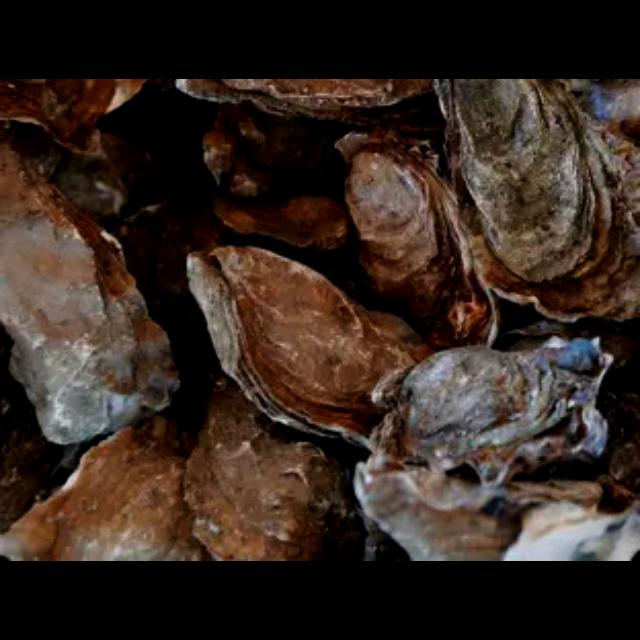Oyster-Closed: (0, 145, 181, 442), (188, 247, 434, 446), (185, 370, 407, 561), (453, 118, 640, 322), (438, 79, 614, 282), (372, 338, 611, 482), (345, 142, 501, 350), (0, 417, 211, 561), (354, 461, 603, 561), (116, 178, 234, 346), (528, 389, 640, 511), (201, 102, 342, 192), (0, 329, 54, 532), (0, 79, 148, 150), (176, 79, 439, 115), (216, 187, 354, 245), (311, 89, 441, 131), (216, 80, 393, 105)
Oyster-Open: (56, 129, 153, 217), (505, 500, 640, 561)
